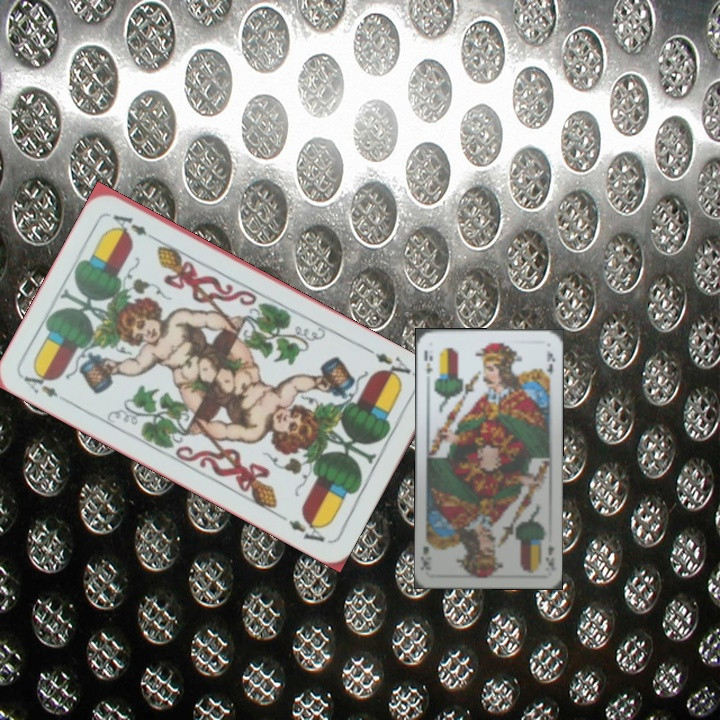EA: (19, 366, 73, 406), (370, 348, 418, 385)
EK: (541, 540, 558, 573), (420, 346, 435, 376)
